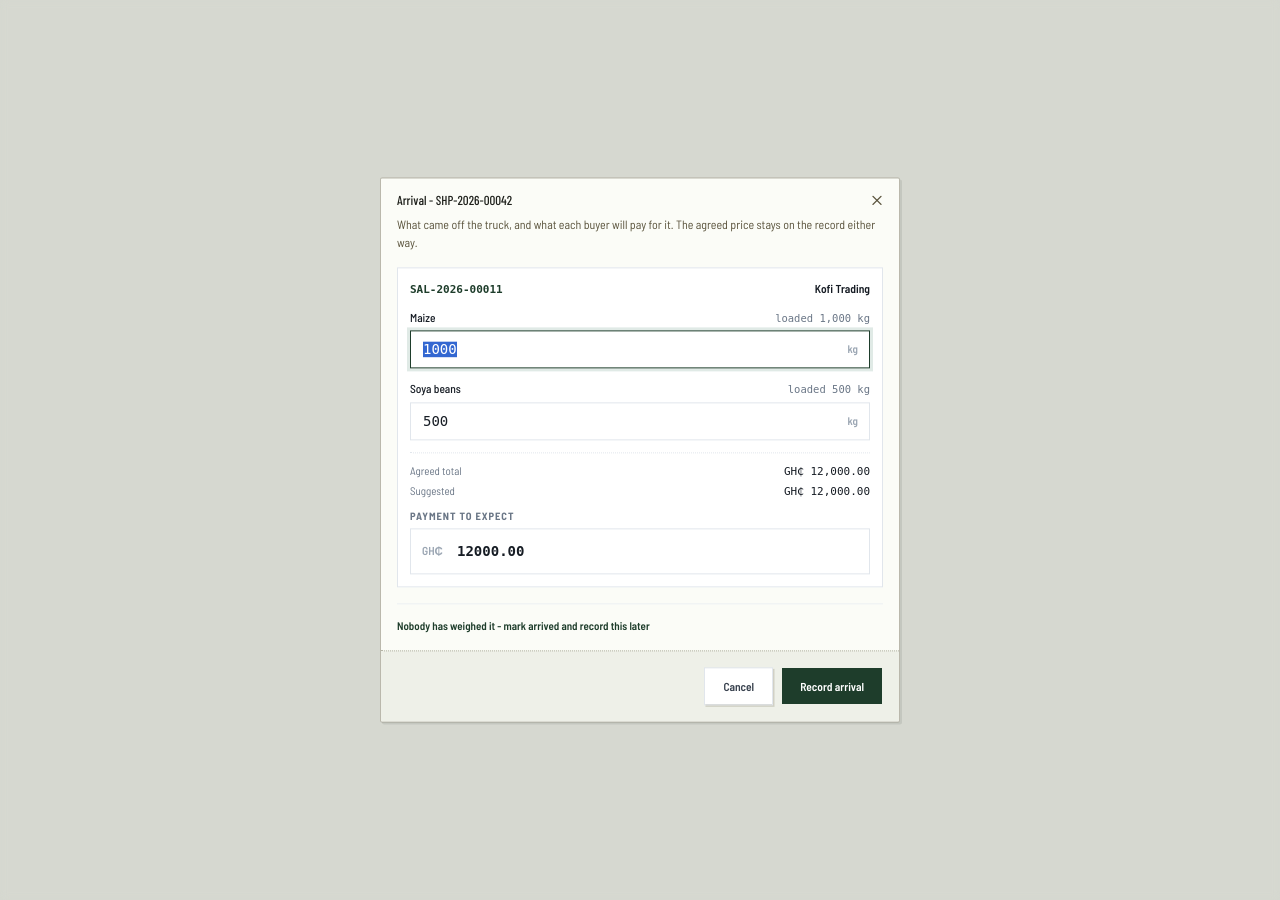
it: ArrivalDialog › refuses to settle below what the buyer already paid, and names the sale
Replace the text in the field labelled "Payment to expect" with "11000" at (640, 551), box [410,528,870,574]
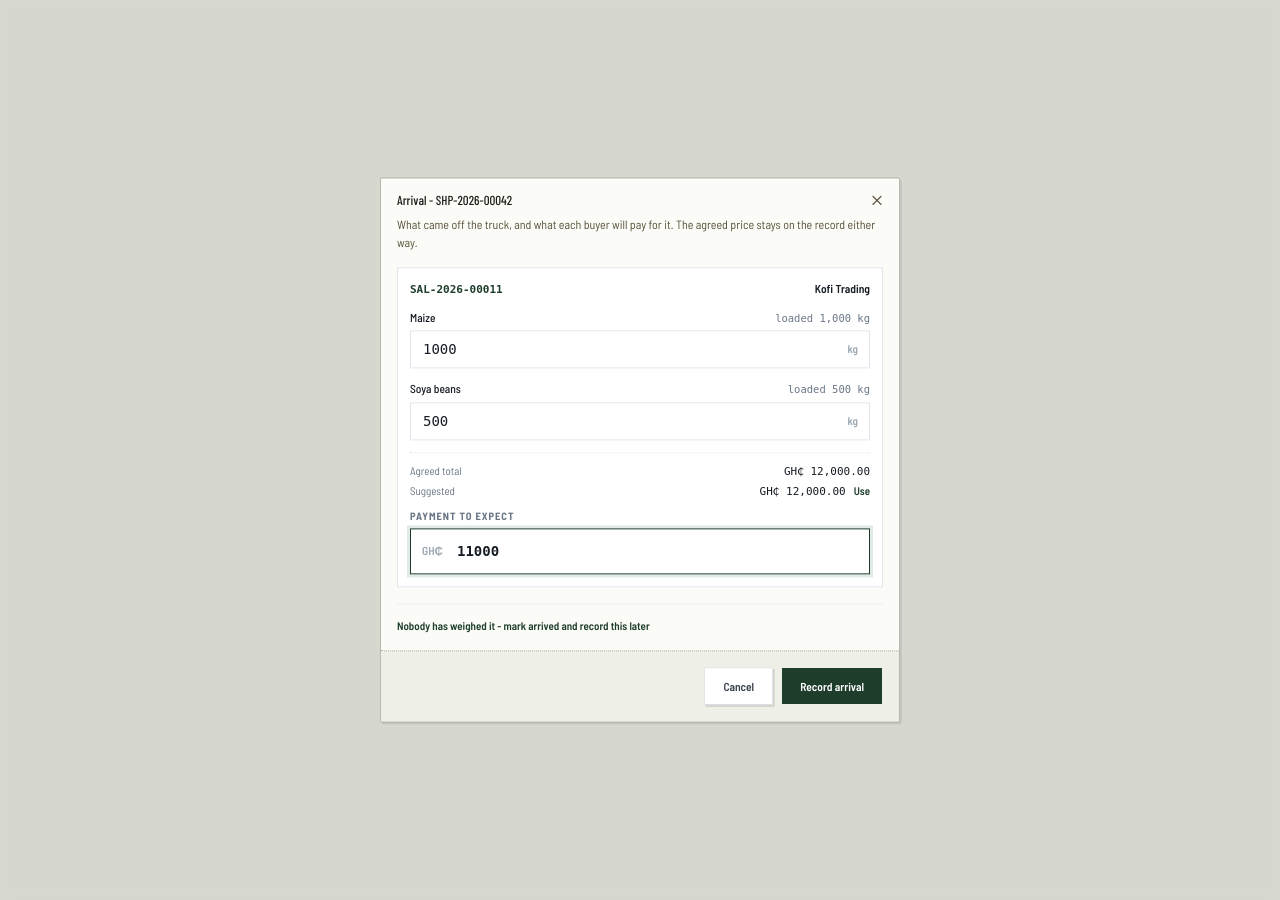
Click the button "Record arrival".
click(832, 687)  # box [781,668,883,706]
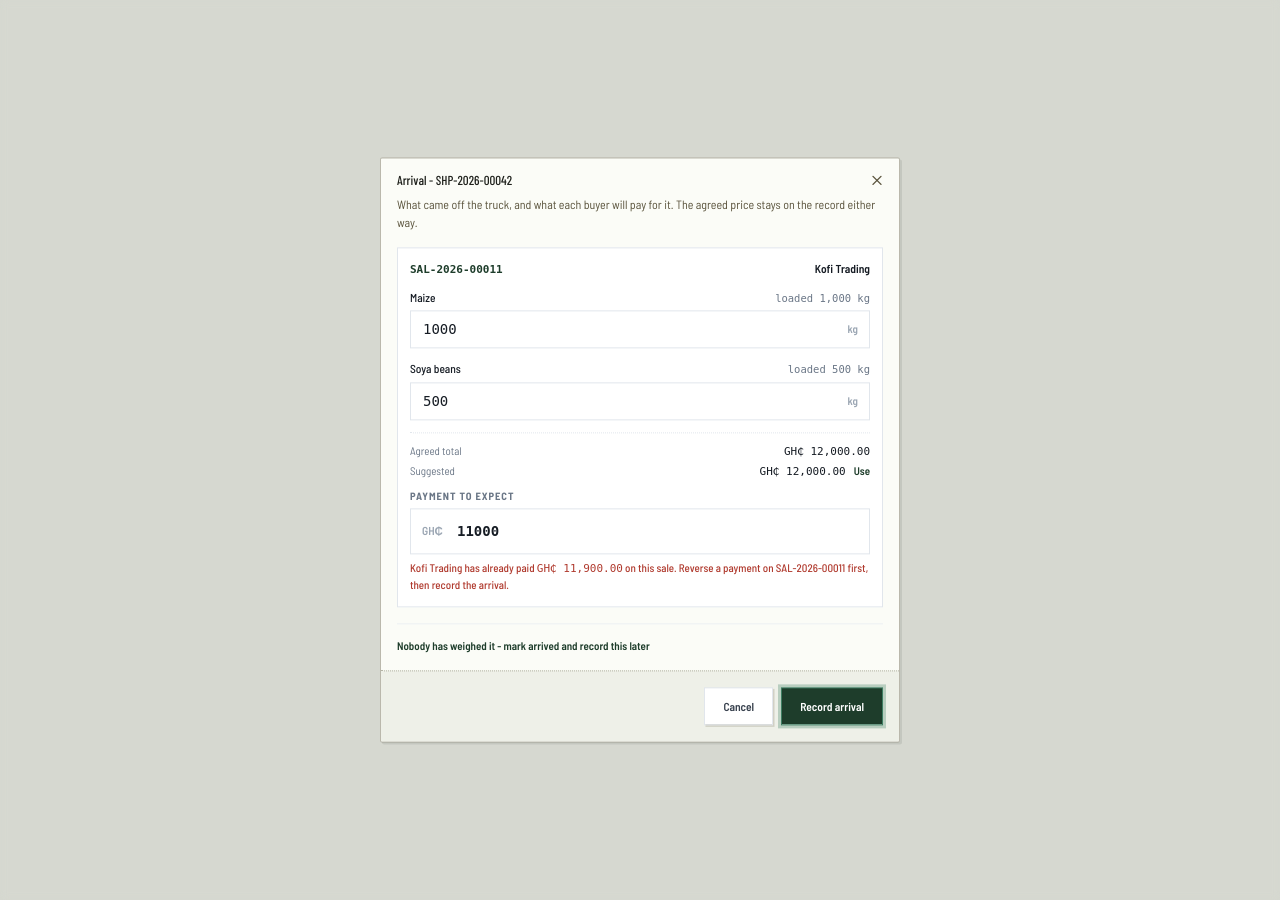
expect the text "Reverse a payment on SAL-2026-00011 first" is shown: met, box [410,560,870,594]
